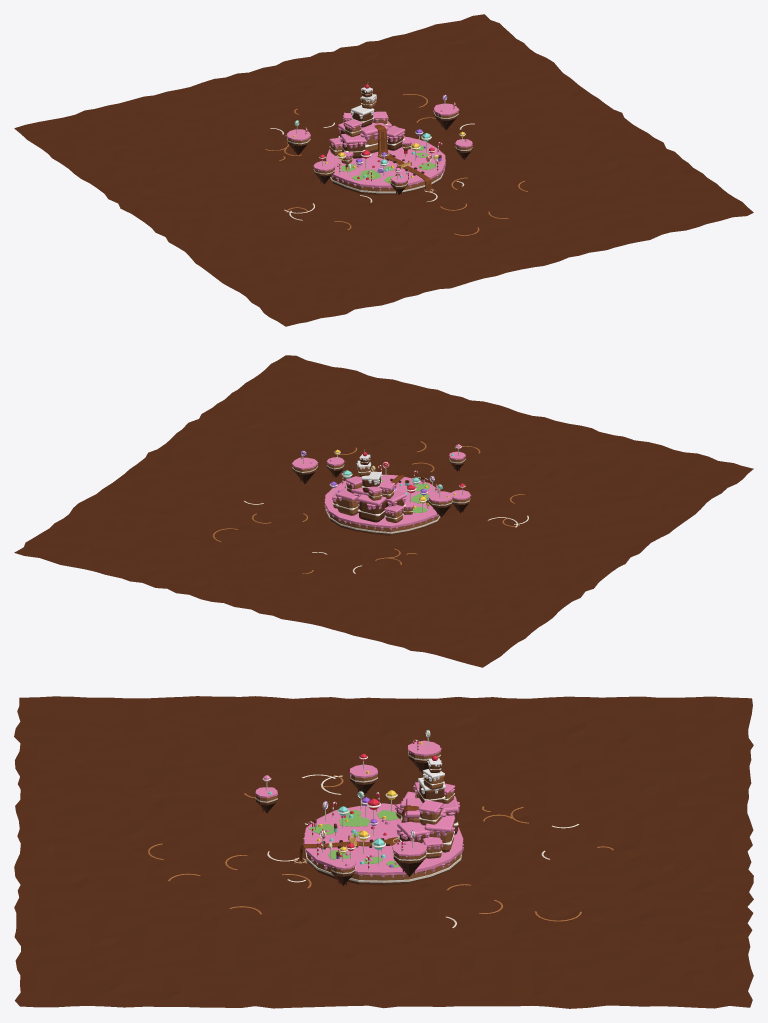
Rendered from choco_island.glb.
3 renders of one model, top to bottom at view 1: azimuth 30°, elevation 25°; view 2: azimuth 150°, elevation 25°; view 3: azimuth 270°, elevation 25°, orthographic. The views are drawn at different scales.
Visible parts, largest first — view 1: Syrup_Sea, Island, Mountain, Props, Syrup_Falls; view 2: Syrup_Sea, Mountain, Island, Props; view 3: Syrup_Sea, Island, Mountain, Props, Platform_3, Platform_1, Platform_0, Syrup_Falls.
Boxes of the visible parts, x1,y1,x2,y2 form: Syrup_Sea: (14, 14, 753, 326); Island: (326, 136, 445, 195); Mountain: (329, 82, 411, 163); Props: (293, 95, 467, 182); Syrup_Falls: (374, 124, 435, 192); Syrup_Sea: (14, 355, 753, 667); Mountain: (332, 449, 413, 522); Island: (324, 474, 440, 535); Props: (300, 444, 465, 512); Syrup_Sea: (14, 696, 753, 1008); Island: (303, 803, 463, 885); Mountain: (394, 752, 459, 858); Props: (262, 730, 430, 870); Platform_3: (392, 841, 426, 876); Platform_1: (407, 740, 441, 773); Platform_0: (349, 764, 377, 794); Syrup_Falls: (294, 805, 418, 863).
Size of the model in its own units: 145 by 24.89 by 145.
